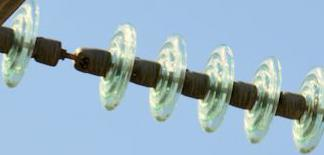gap: (2, 1, 137, 112)
